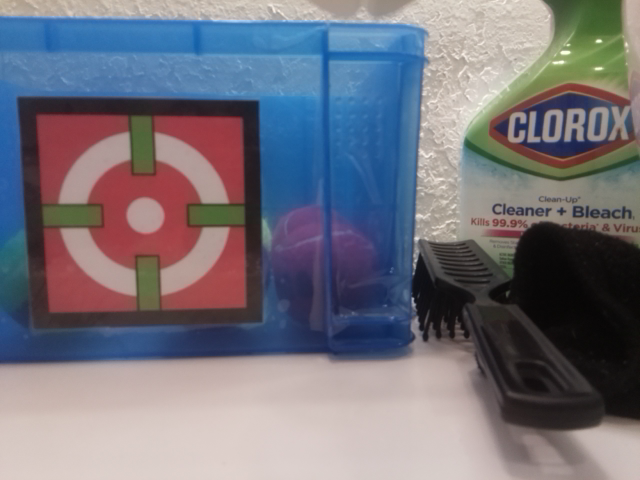drop-bin: (17, 96, 264, 328)
